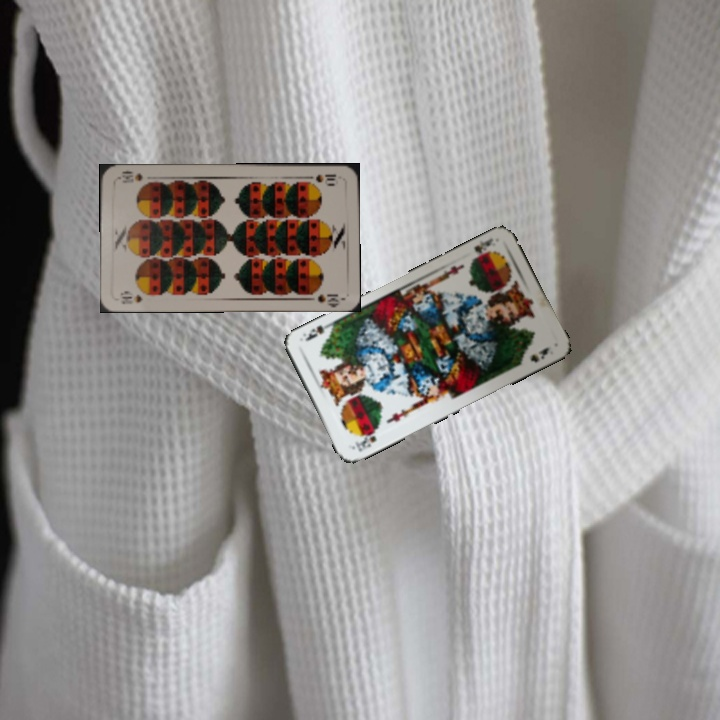S10: (117, 288, 155, 307), (303, 170, 339, 186)
SK: (467, 233, 497, 264), (351, 428, 379, 455)
